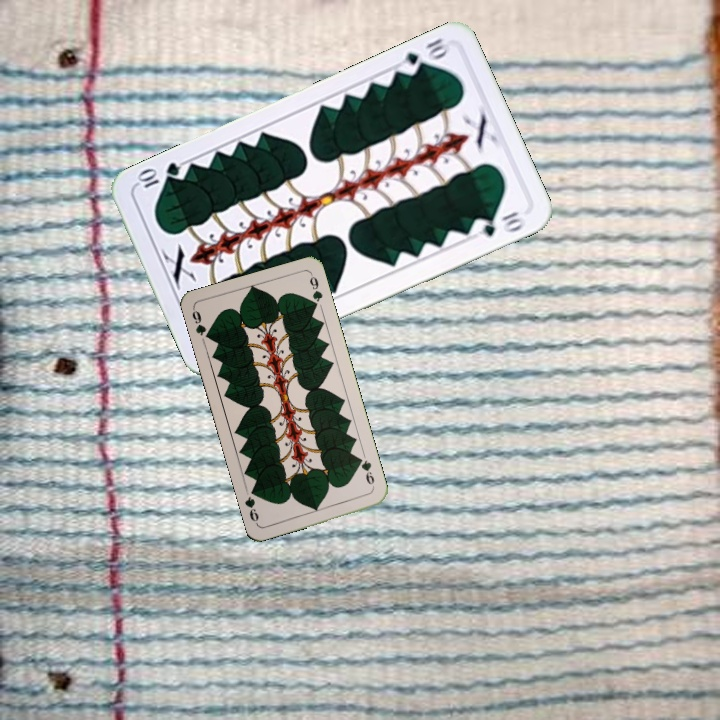G10: (394, 34, 453, 78)
G9: (188, 305, 214, 342), (354, 453, 377, 492)
